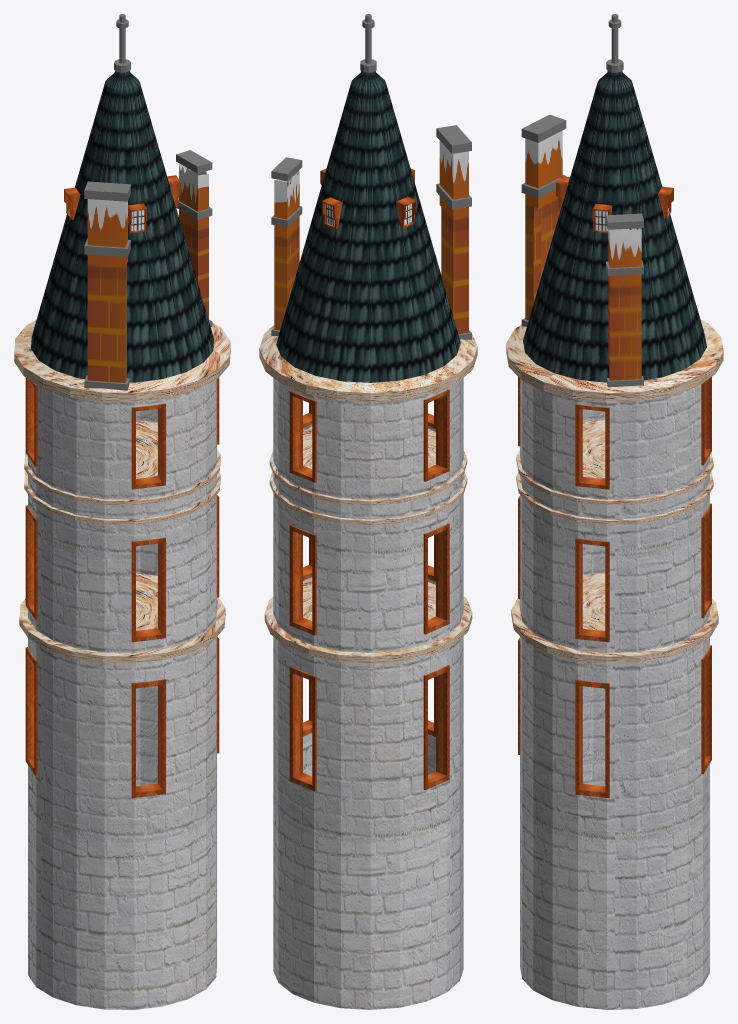
File: tower.obj
3 views of the same model, side by side, from view 1: azimuth 30°, elevation 25°; view 2: azimuth 150°, elevation 25°; view 3: azimuth 270°, elevation 25° (orthographic).
Parts seen in each view (by area): view 1: Object.1; view 2: Object.1; view 3: Object.1.
Boxes of the visible parts, x1,y1,x2,y2 form: Object.1: (14, 14, 230, 1009); Object.1: (259, 14, 477, 1009); Object.1: (506, 14, 723, 1009).
Bounding box in the file's own units: 17.16 × 83.12 × 17.16.
8 materials, 6 textured.
